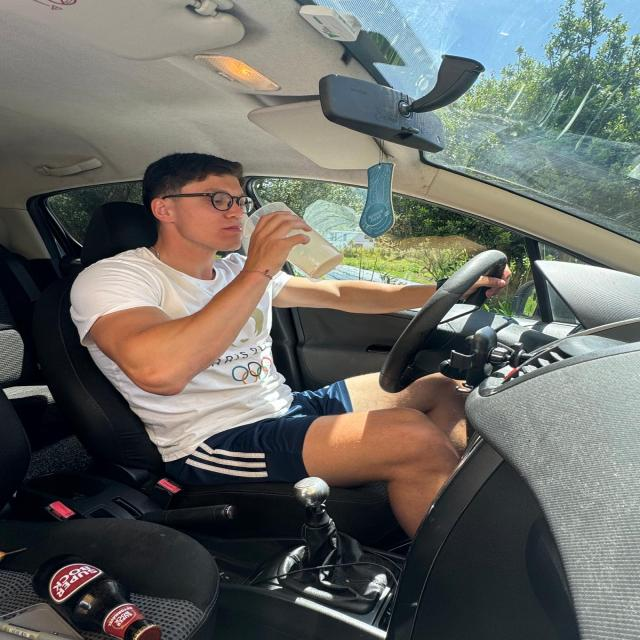Drinking: (223, 196, 360, 286)
